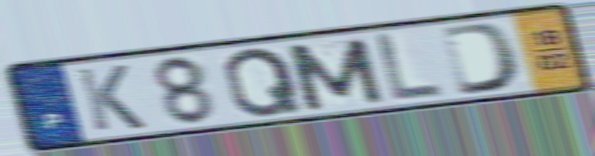8: (150, 54, 222, 126)
D: (437, 20, 525, 98)
K: (72, 62, 150, 134)
L: (373, 30, 447, 103)
M: (280, 35, 389, 113)
Q: (221, 45, 307, 120)
